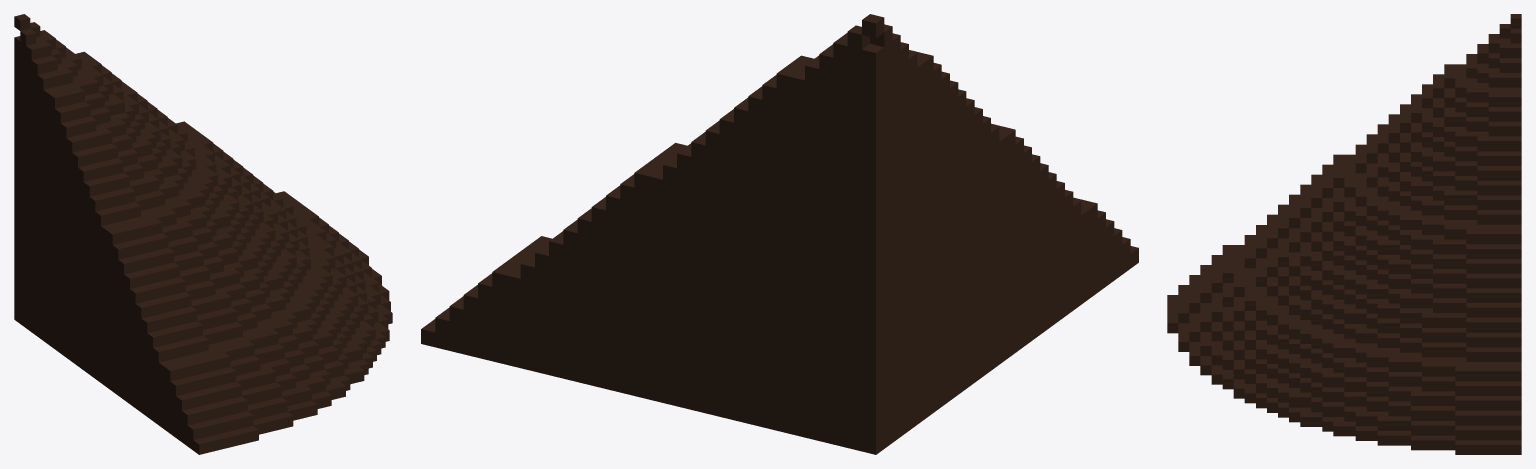
The model's file is Roof Edge.obj.
The picture shows the model from 3 angles, left to right: view 1: azimuth 30°, elevation 25°; view 2: azimuth 150°, elevation 25°; view 3: azimuth 270°, elevation 25°; orthographic projection. The views are drawn at different scales.
Bounding box in the file's own units: 3.2 × 2.9 × 3.2.
Materials: 1 (1 with a texture image).
